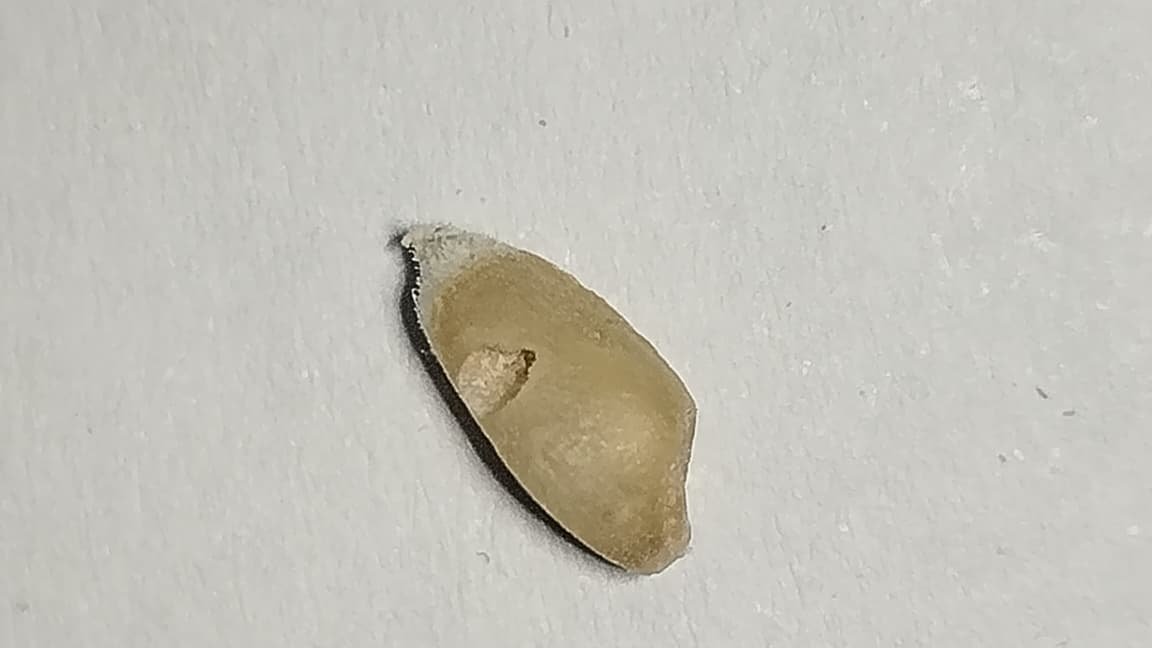damage: (400, 224, 695, 572)
insectdamage: (433, 325, 554, 417)
